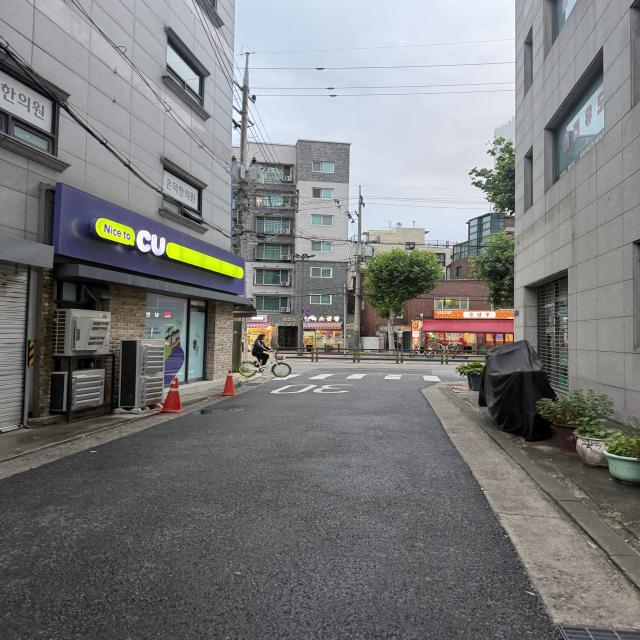bicycle: (230, 328, 304, 382)
